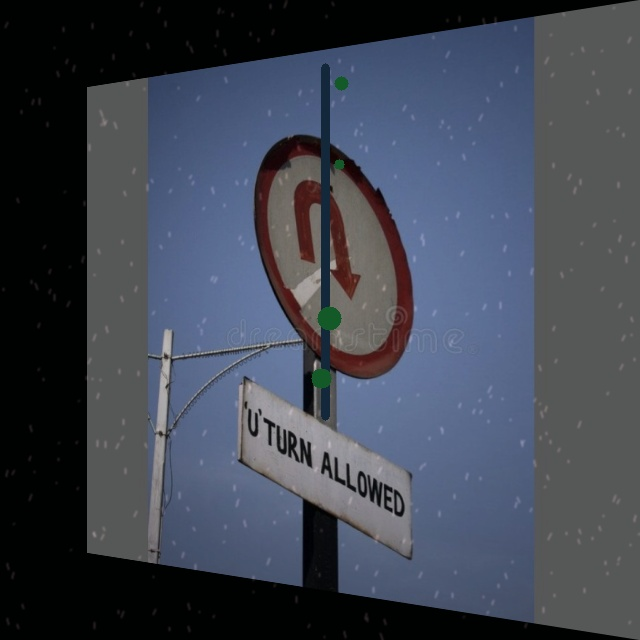U_Turn_Ahead: (256, 106, 434, 382)
